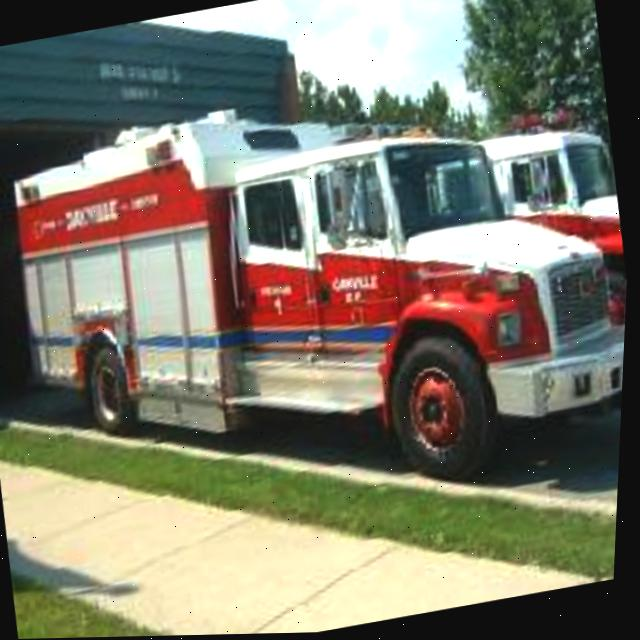emergency: (0, 39, 638, 569)
